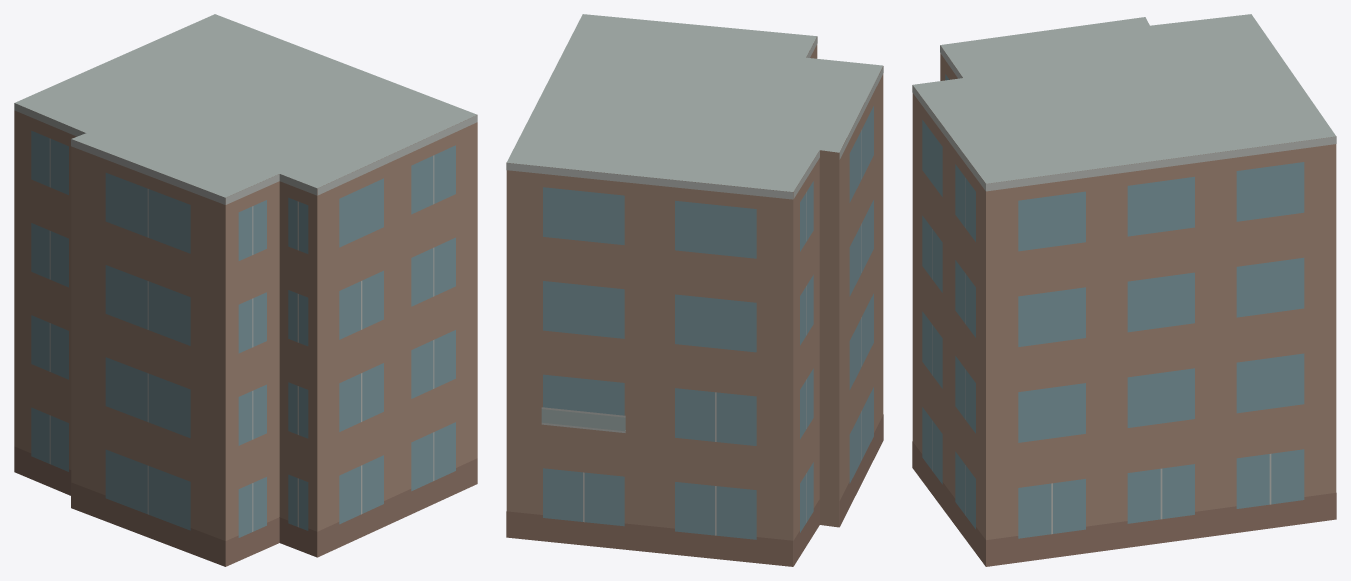
Rendered from survey-upis-32568906.glb.
3 renders of one model, left to right at view 1: azimuth 30°, elevation 25°; view 2: azimuth 150°, elevation 25°; view 3: azimuth 270°, elevation 25°, orthographic. The views are drawn at different scales.
Visible parts, largest first — view 1: survey-upis-32568906.tmp; view 2: survey-upis-32568906.tmp; view 3: survey-upis-32568906.tmp.
Boxes of the visible parts, box(x1,y1,x2,y2) form: survey-upis-32568906.tmp: box(14, 14, 477, 566); survey-upis-32568906.tmp: box(506, 14, 883, 566); survey-upis-32568906.tmp: box(912, 14, 1336, 566).
Bounding box in the file's own units: 11.61 × 12.2 × 12.25.
